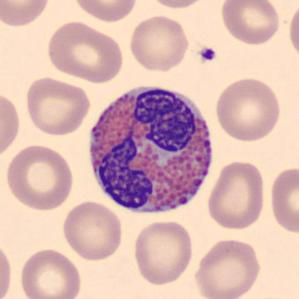Eosinophil: (82, 76, 220, 222)
Platelets: (197, 45, 218, 64)
RBC: (44, 18, 126, 84), (3, 142, 76, 212), (212, 75, 282, 143), (192, 235, 263, 299), (206, 159, 268, 232), (130, 218, 196, 286), (22, 75, 92, 137), (60, 199, 126, 262), (127, 13, 191, 72), (17, 246, 84, 299), (218, 0, 282, 46), (267, 164, 299, 236), (0, 87, 22, 161), (71, 0, 139, 23), (1, 0, 52, 29), (0, 238, 15, 299), (286, 1, 299, 63), (143, 0, 212, 10)
